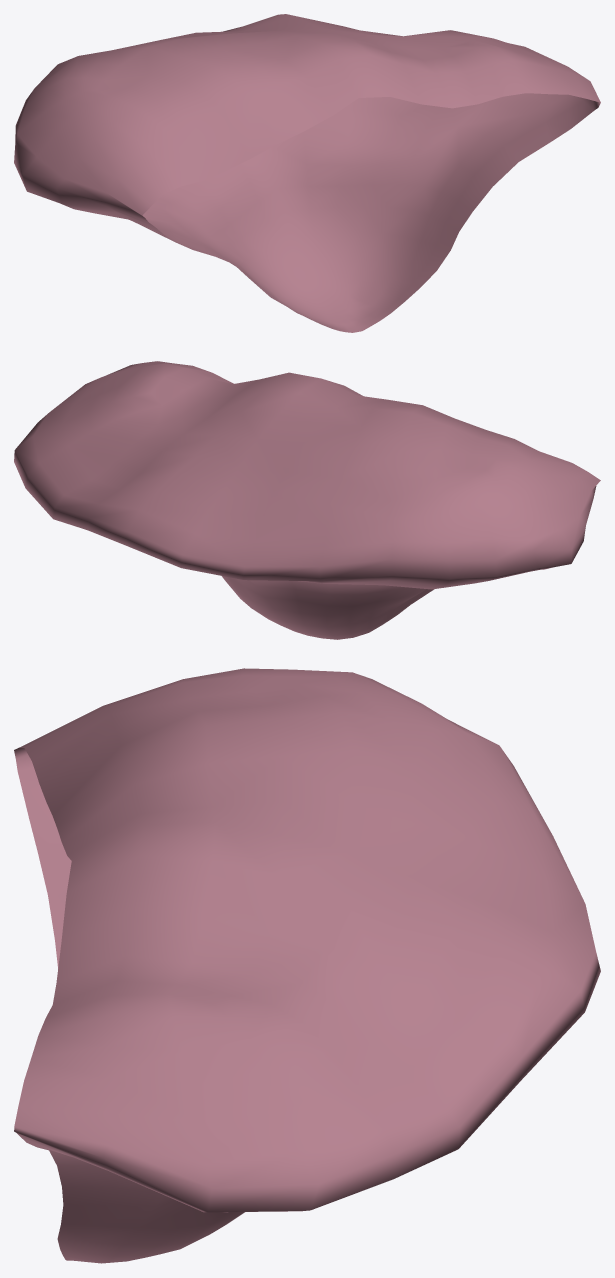
Rendered from table coral1.fbx.
The picture shows the model from 3 angles, top to bottom: view 1: azimuth 30°, elevation 25°; view 2: azimuth 150°, elevation 25°; view 3: azimuth 270°, elevation 25°; orthographic projection. The views are drawn at different scales.
Visible parts, largest first — view 1: pCylinder7; view 2: pCylinder7; view 3: pCylinder7.
Boxes of the visible parts, <box> form: pCylinder7: <box>14,14,600,332</box>; pCylinder7: <box>14,361,600,639</box>; pCylinder7: <box>14,668,600,1263</box>.
Size of the model in its own units: 0.327 by 0.1518 by 0.1824.
